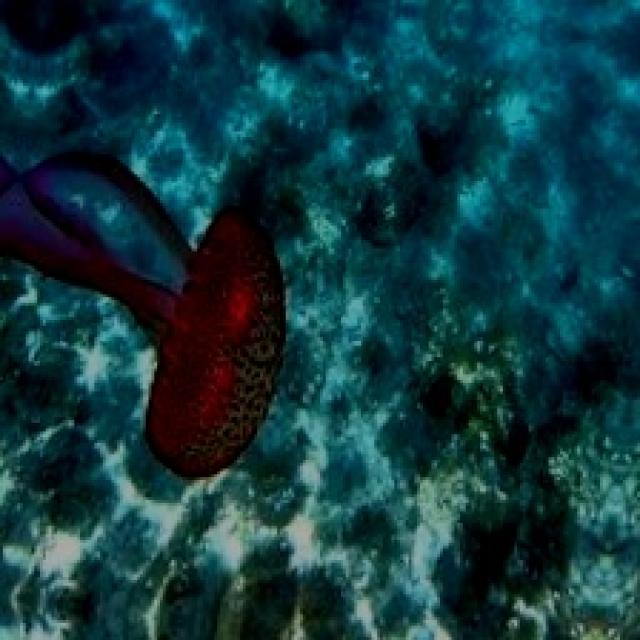Box-jellyfish: (0, 137, 289, 480)
